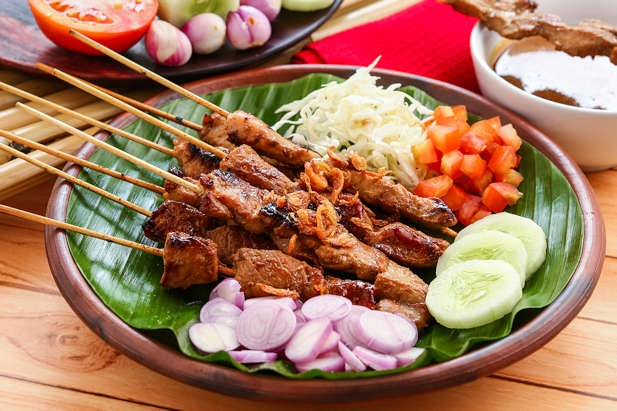sate: (116, 78, 460, 322)
